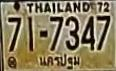1: (28, 16, 33, 51)
3: (65, 16, 78, 49)
4: (81, 15, 94, 50)
7: (96, 16, 110, 50), (50, 16, 63, 50), (8, 16, 20, 51)
NPT: (36, 54, 82, 71)
